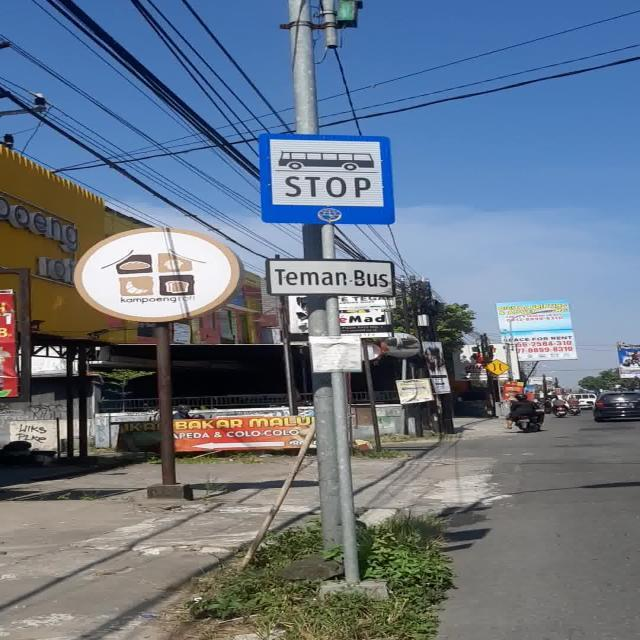Pemberhentian Bus: (258, 132, 396, 225)
